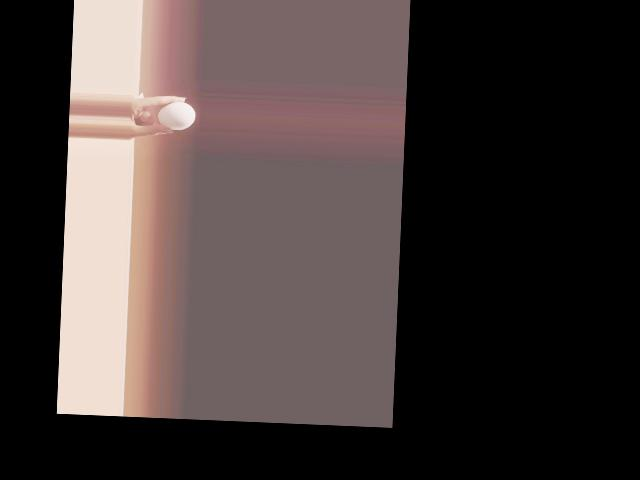egg: (157, 101, 196, 131)
